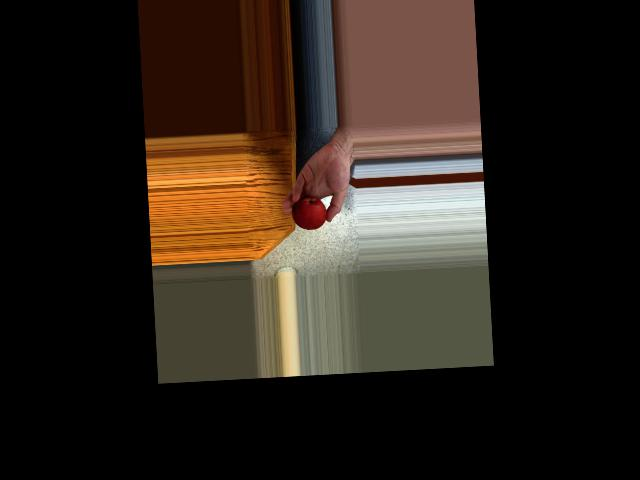apple: (290, 196, 325, 232)
